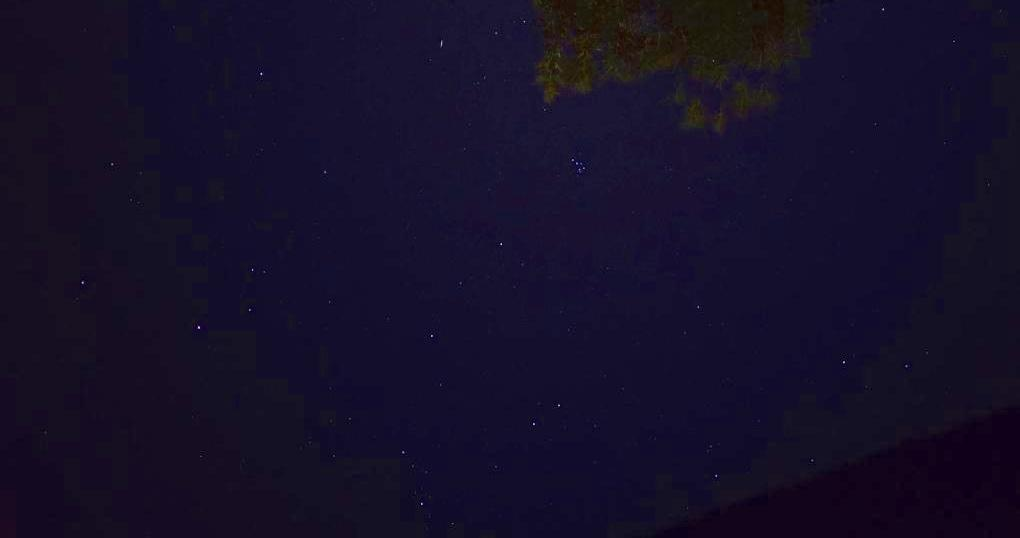meteorite: (428, 31, 455, 53)
